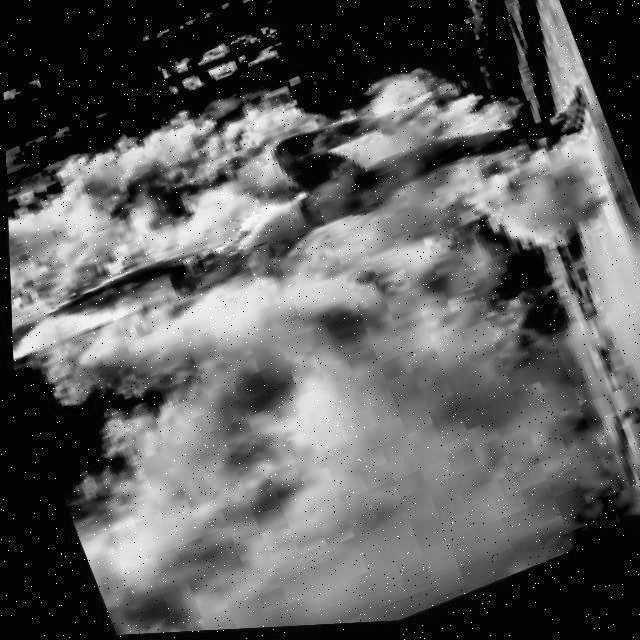Smoke: (7, 173, 640, 640)
